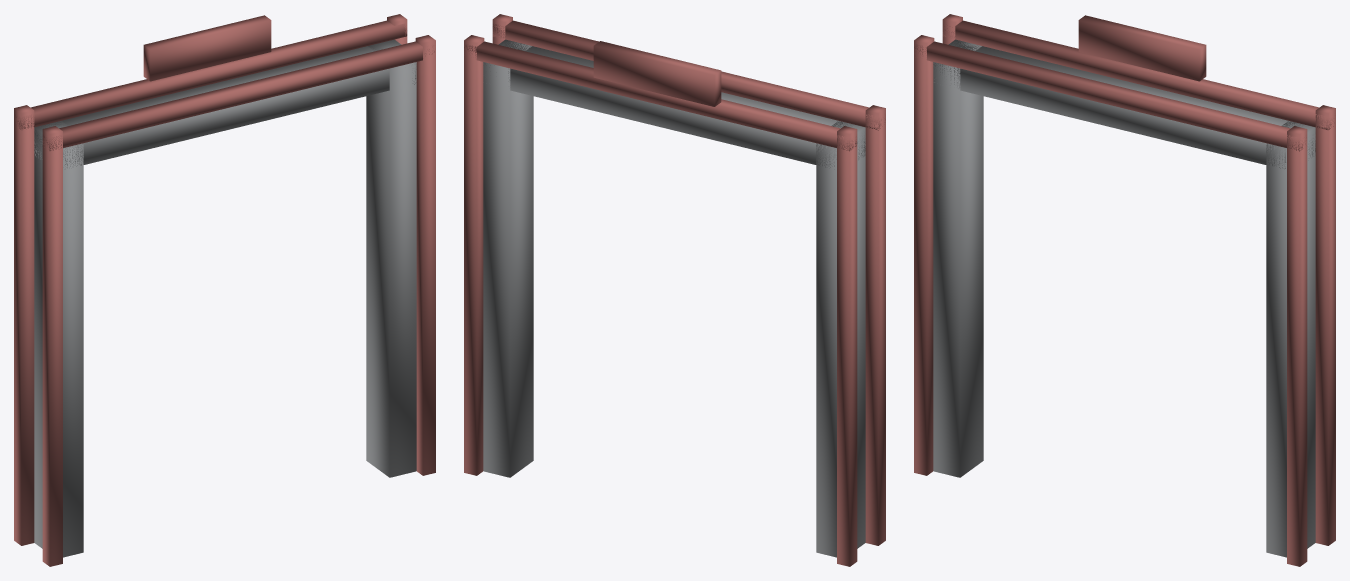
Rendered from doorway_emergency_exit_w182_h220_d24.glb.
The picture shows the model from 3 angles, left to right: view 1: azimuth 30°, elevation 25°; view 2: azimuth 150°, elevation 25°; view 3: azimuth 330°, elevation 25°; orthographic projection.
Visible parts, largest first — view 1: world; view 2: world; view 3: world.
Part boxes in pixels (x1=…): world: x1=14, y1=14, x2=435, y2=566; world: x1=464, y1=14, x2=885, y2=566; world: x1=914, y1=14, x2=1335, y2=566.
Size of the model in its own units: 2.29 by 2.62 by 0.4003.
